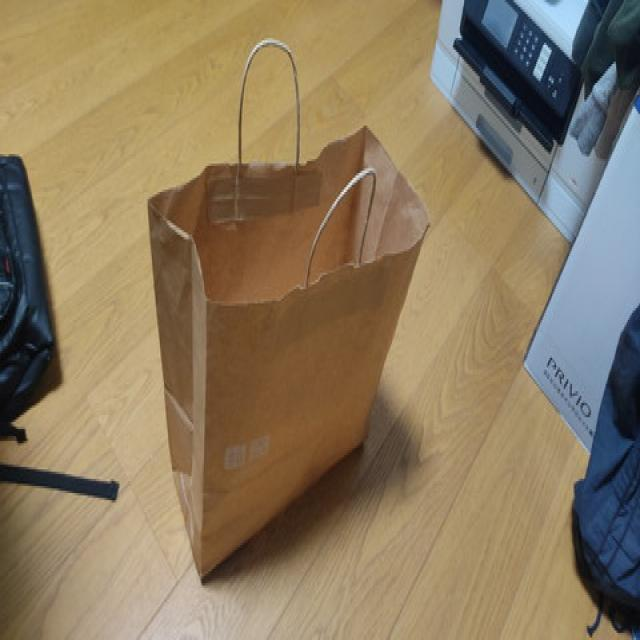paper bag: (146, 36, 436, 580)
